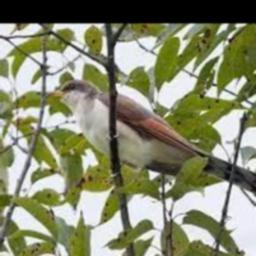Cuckoo: (41, 79, 256, 199)
